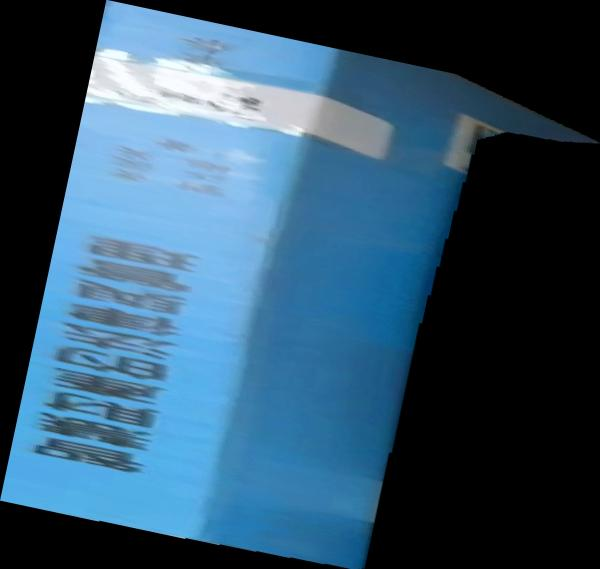reverse: (1, 1, 600, 569)
